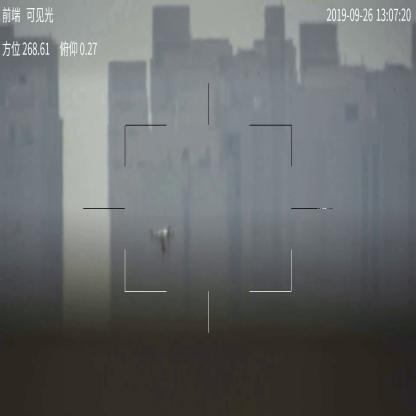uav: (145, 226, 178, 255)
